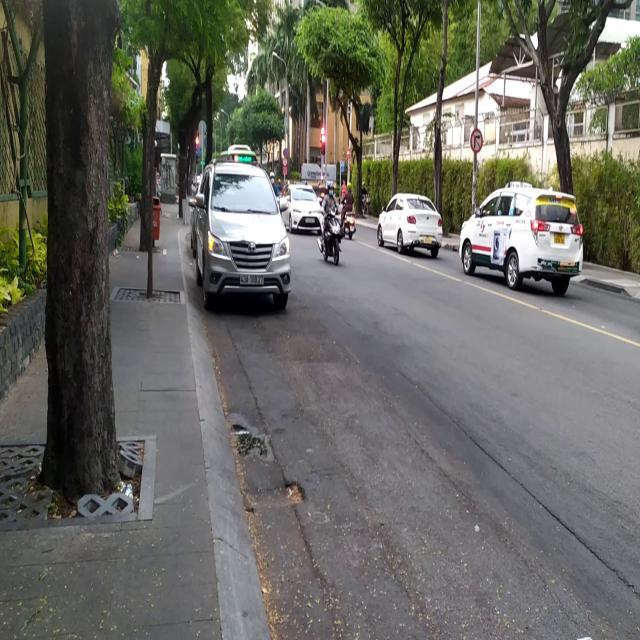bien_trang: (236, 270, 265, 289)
